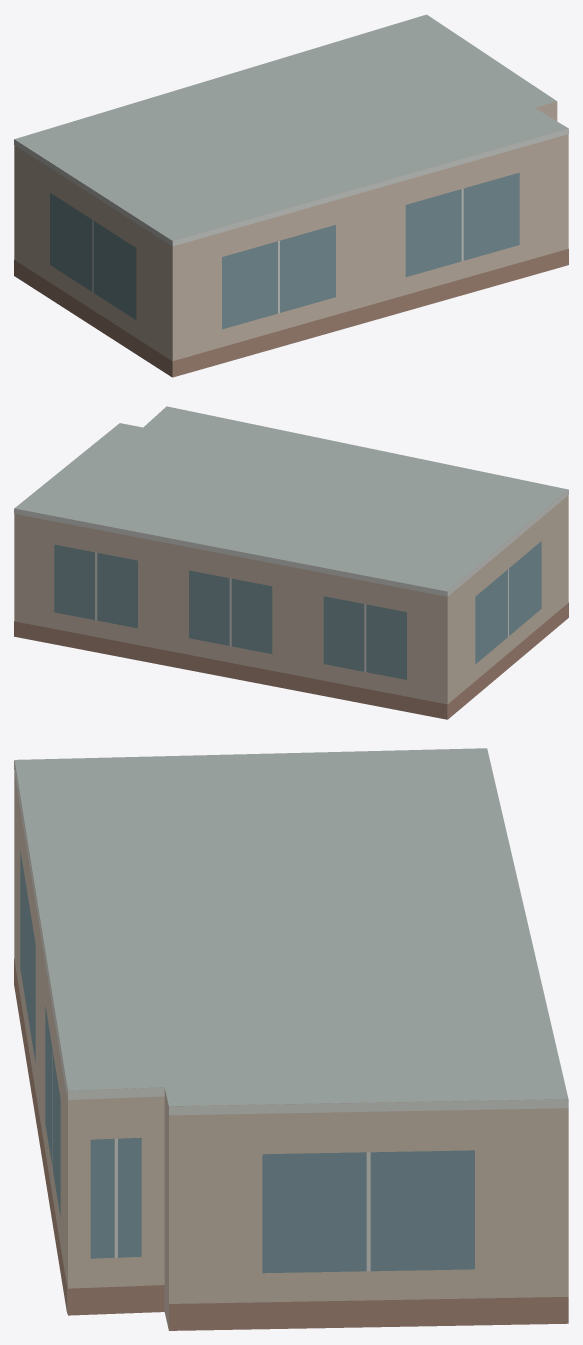
The model's file is survey-upis-32944438.glb.
The picture shows the model from 3 angles, top to bottom: view 1: azimuth 30°, elevation 25°; view 2: azimuth 150°, elevation 25°; view 3: azimuth 270°, elevation 25°; orthographic projection. The views are drawn at different scales.
Parts seen in each view (by area): view 1: survey-upis-32944438.tmp; view 2: survey-upis-32944438.tmp; view 3: survey-upis-32944438.tmp.
Part boxes in pixels (box(x1,y1,x2,y2)): survey-upis-32944438.tmp: box(14, 14, 568, 377); survey-upis-32944438.tmp: box(14, 406, 568, 719); survey-upis-32944438.tmp: box(14, 748, 568, 1330).
Bounding box in the file's own units: 10.44 × 3.05 × 6.83.
